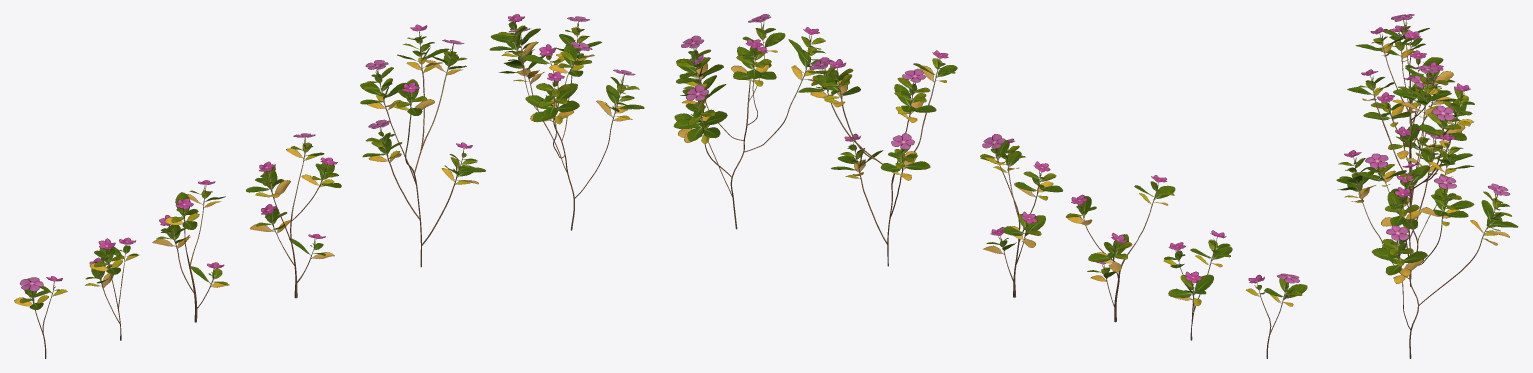
File: periwinkle.glb
The picture shows the model from 3 angles, left to right: view 1: azimuth 30°, elevation 25°; view 2: azimuth 150°, elevation 25°; view 3: azimuth 270°, elevation 25°; orthographic projection. The views are drawn at different scales.
Visible parts, largest first — view 1: periwinkle_plant_01_LOD0, periwinkle_plant_02_LOD0, periwinkle_plant_03_LOD0, periwinkle_plant_04_LOD0, periwinkle_plant_05_LOD0, periwinkle_plant_06_LOD0; view 2: periwinkle_plant_01_LOD0, periwinkle_plant_02_LOD0, periwinkle_plant_03_LOD0, periwinkle_plant_04_LOD0, periwinkle_plant_05_LOD0, periwinkle_plant_06_LOD0; view 3: periwinkle_plant_01_LOD0, periwinkle_plant_02_LOD0, periwinkle_plant_03_LOD0, periwinkle_plant_04_LOD0, periwinkle_plant_05_LOD0, periwinkle_plant_06_LOD0.
Part boxes in pixels (box(x1,y1,x2,y2)): periwinkle_plant_01_LOD0: box(489, 14, 644, 230); periwinkle_plant_02_LOD0: box(360, 24, 485, 267); periwinkle_plant_03_LOD0: box(246, 133, 341, 298); periwinkle_plant_04_LOD0: box(152, 180, 229, 322); periwinkle_plant_05_LOD0: box(85, 237, 138, 340); periwinkle_plant_06_LOD0: box(14, 276, 67, 358); periwinkle_plant_01_LOD0: box(673, 14, 833, 229); periwinkle_plant_02_LOD0: box(798, 50, 957, 266); periwinkle_plant_03_LOD0: box(980, 134, 1062, 297); periwinkle_plant_04_LOD0: box(1066, 175, 1175, 322); periwinkle_plant_05_LOD0: box(1163, 230, 1232, 340); periwinkle_plant_06_LOD0: box(1246, 273, 1307, 358); periwinkle_plant_01_LOD0: box(1336, 133, 1518, 358); periwinkle_plant_02_LOD0: box(1347, 65, 1474, 286); periwinkle_plant_03_LOD0: box(1363, 75, 1440, 207); periwinkle_plant_04_LOD0: box(1355, 27, 1455, 171); periwinkle_plant_05_LOD0: box(1377, 25, 1454, 123); periwinkle_plant_06_LOD0: box(1383, 14, 1429, 103).
Bounding box in the file's own units: 1.24 × 0.4107 × 0.3208.
1 material, 1 textured.
